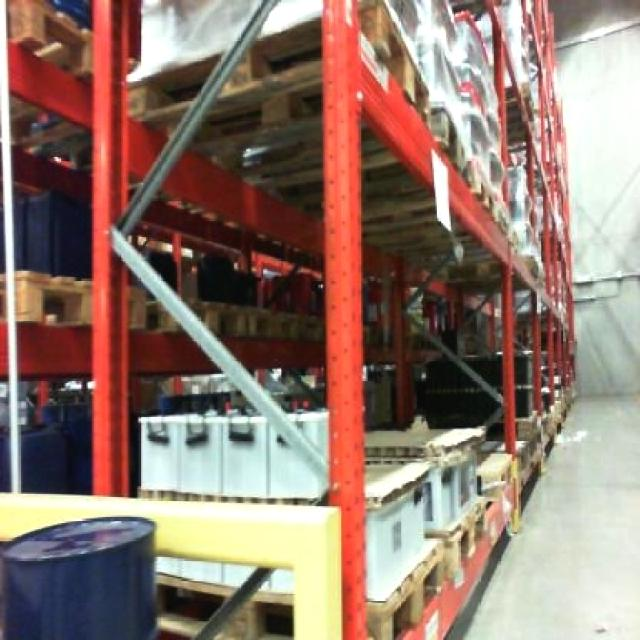pallets: (0, 492, 340, 637), (0, 515, 152, 637)
